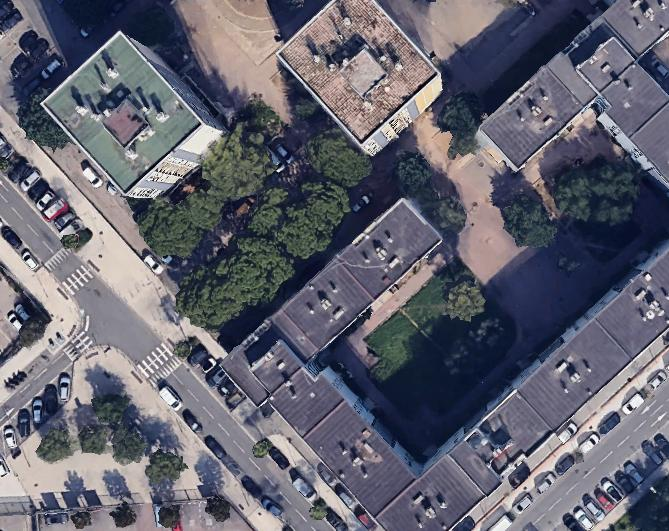immeuble: (360, 229, 669, 531), (219, 316, 462, 531), (216, 195, 444, 408), (36, 21, 234, 219), (472, 0, 669, 175), (272, 0, 453, 161), (544, 16, 669, 200)
